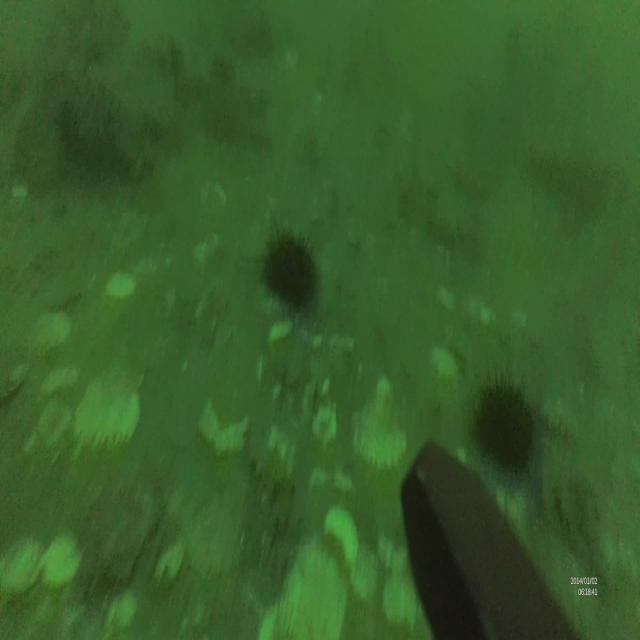echinus: (468, 372, 540, 483), (258, 227, 322, 313)
scallop: (76, 366, 140, 461), (354, 394, 409, 469)
